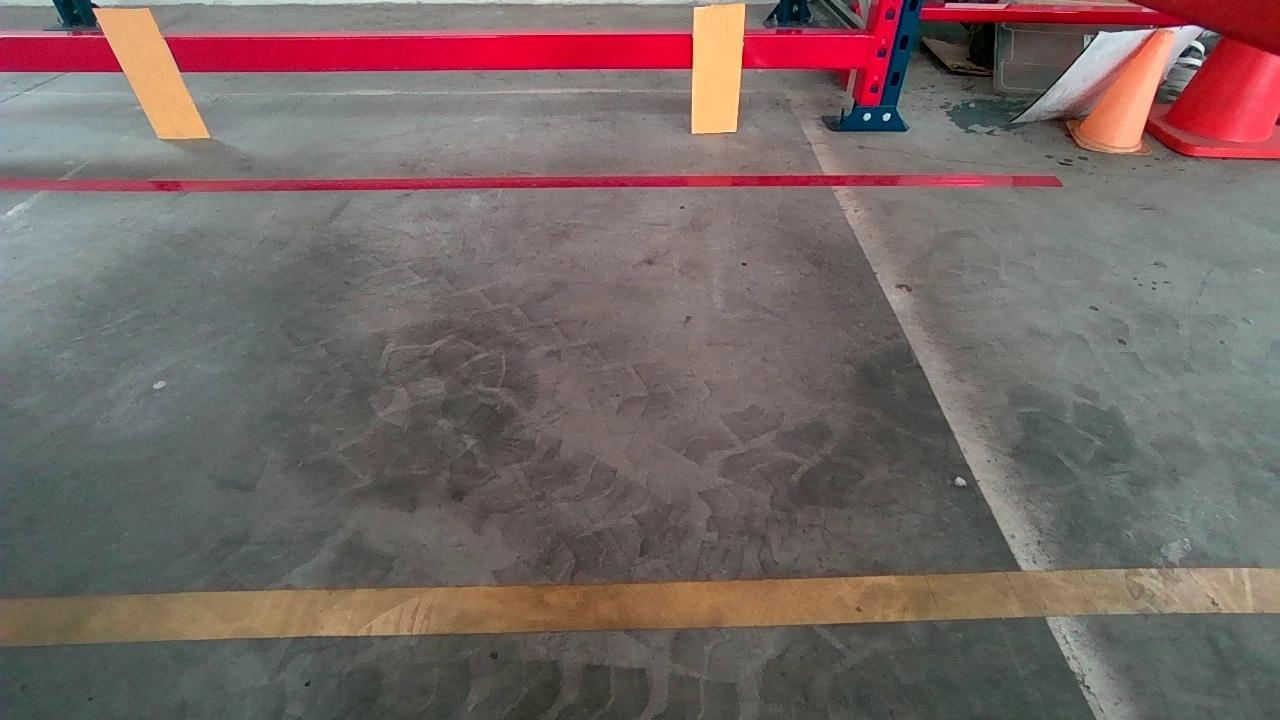h_rack: (10, 34, 877, 78)
orange_strip: (94, 8, 209, 137), (691, 5, 743, 132)
red_line: (0, 177, 1060, 191)
yellow_line: (4, 564, 1271, 648)
